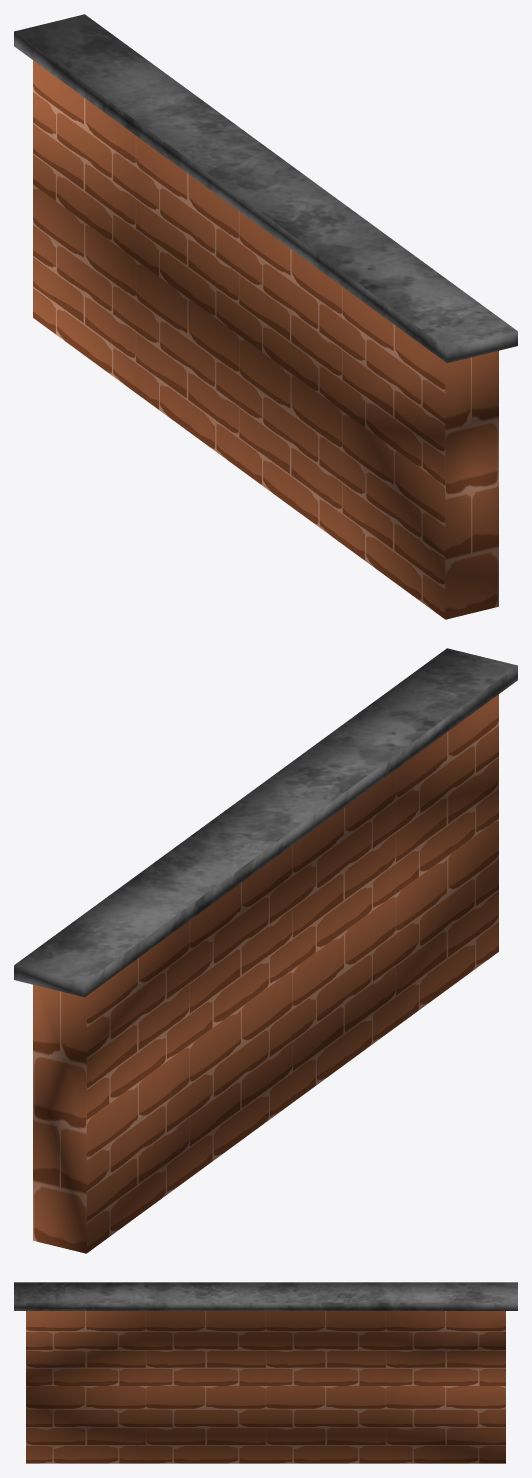
The model's file is muro.fbx_Muro.fbx.
3 views of the same model, one above another, from view 1: azimuth 30°, elevation 25°; view 2: azimuth 150°, elevation 25°; view 3: azimuth 270°, elevation 25° (orthographic). The views are drawn at different scales.
Parts seen in each view (by area): view 1: Muro; view 2: Muro; view 3: Muro.
Part boxes in pixels (<box>): Muro: <box>14,14,517,619</box>; Muro: <box>14,648,517,1253</box>; Muro: <box>14,1282,517,1463</box>.
Bounding box in the file's own units: 79.3 × 300 × 840.
1 material, 1 textured.
